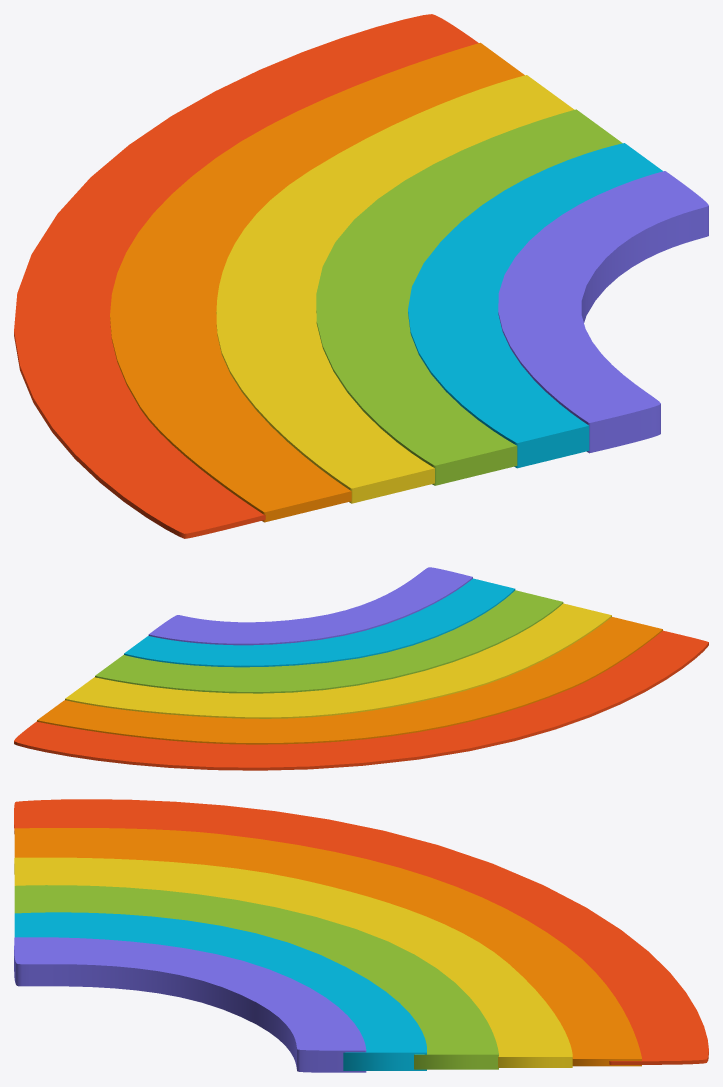
The model's file is emoji_u1f308.glb.
3 renders of one model, top to bottom at view 1: azimuth 30°, elevation 25°; view 2: azimuth 150°, elevation 25°; view 3: azimuth 270°, elevation 25°, orthographic. The views are drawn at different scales.
Parts seen in each view (by area): view 1: emoji_u1f308; view 2: emoji_u1f308; view 3: emoji_u1f308.
Boxes of the visible parts, bbox=[...] form: emoji_u1f308: bbox=[14, 14, 708, 538]; emoji_u1f308: bbox=[14, 567, 708, 770]; emoji_u1f308: bbox=[14, 799, 708, 1072].
Bounding box in the file's own units: 0.0304 × 0.0012 × 0.0341.
